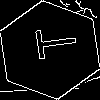T: (25, 25, 78, 62)
